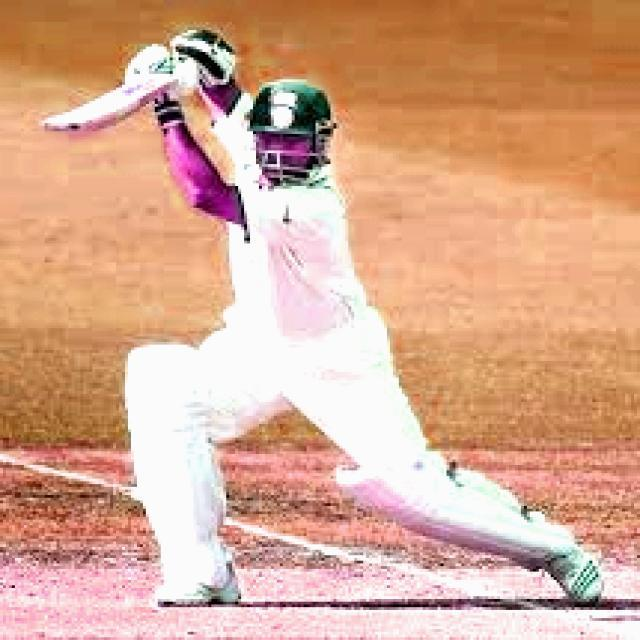bat: (29, 76, 174, 145)
toe: (41, 118, 89, 133)
